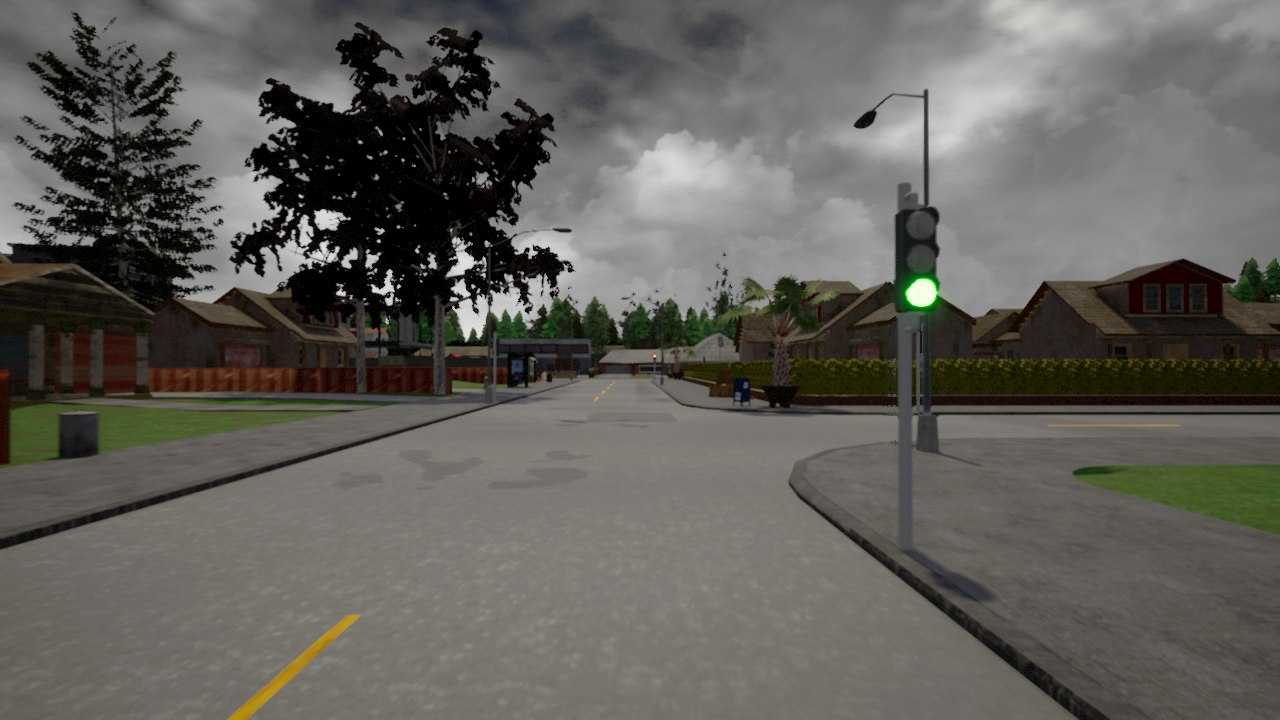green: (888, 207, 939, 312)
